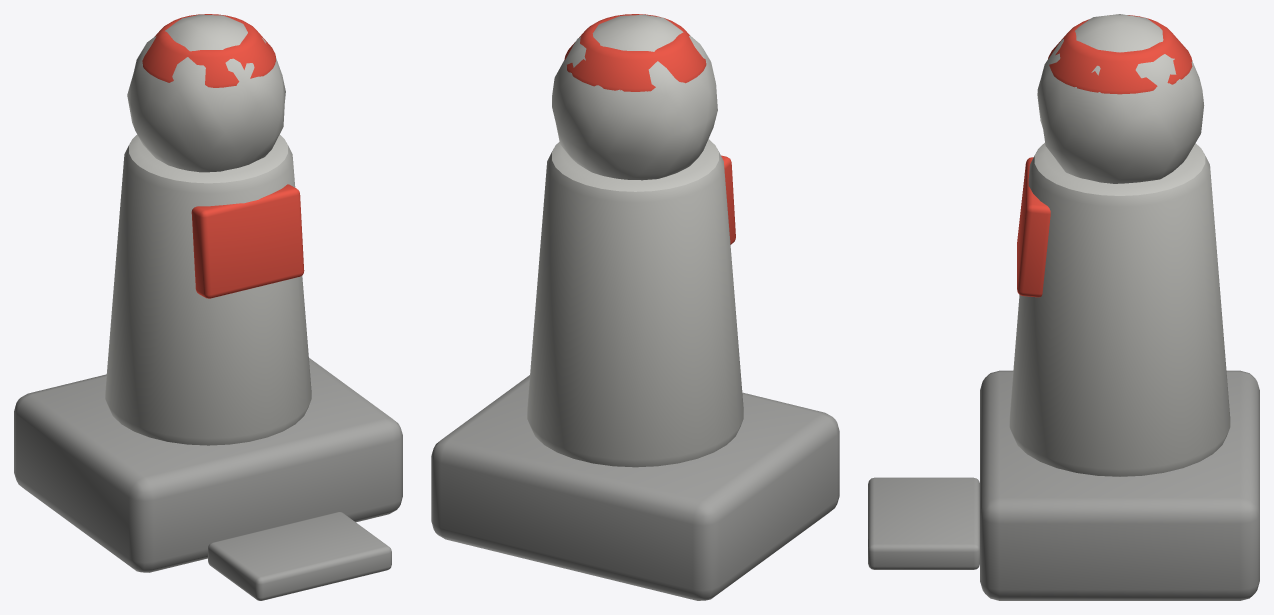
Rendered from jizo.glb.
3 views of the same model, side by side, from view 1: azimuth 30°, elevation 25°; view 2: azimuth 150°, elevation 25°; view 3: azimuth 270°, elevation 25° (orthographic). The views are drawn at different scales.
Visible parts, largest first — view 1: jizo; view 2: jizo; view 3: jizo.
Boxes of the visible parts, x1,y1,x2,y2 form: jizo: (14, 14, 402, 600); jizo: (431, 14, 839, 600); jizo: (868, 14, 1259, 600).
Bounding box in the file's own units: 0.6 × 1.01 × 0.7.
